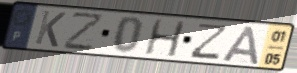0: (112, 15, 146, 56)
A: (220, 24, 261, 66)
H: (142, 18, 187, 59)
K: (33, 8, 68, 49)
Z: (62, 12, 107, 53), (187, 22, 231, 61)
